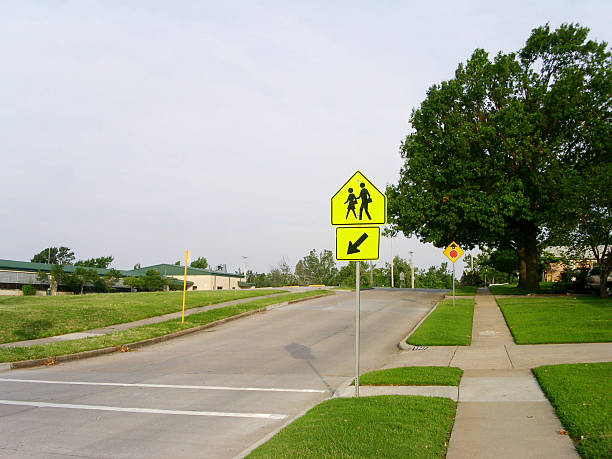pedestrian: (332, 173, 386, 223)
